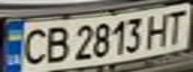1: (109, 18, 130, 55)
2: (72, 20, 96, 62)
3: (124, 15, 148, 53)
8: (90, 19, 115, 58)
B: (39, 24, 72, 65)
C: (15, 25, 51, 66)
H: (142, 10, 175, 48)
T: (163, 7, 190, 45)
